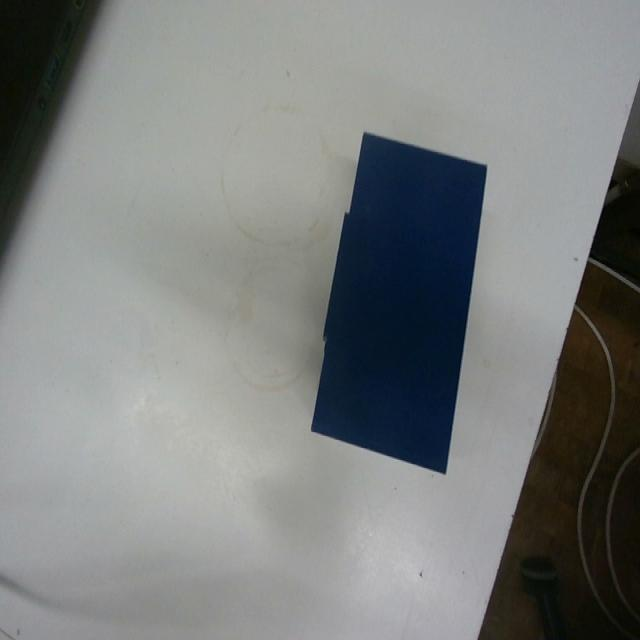Blue Cuboid: (308, 128, 488, 476)
